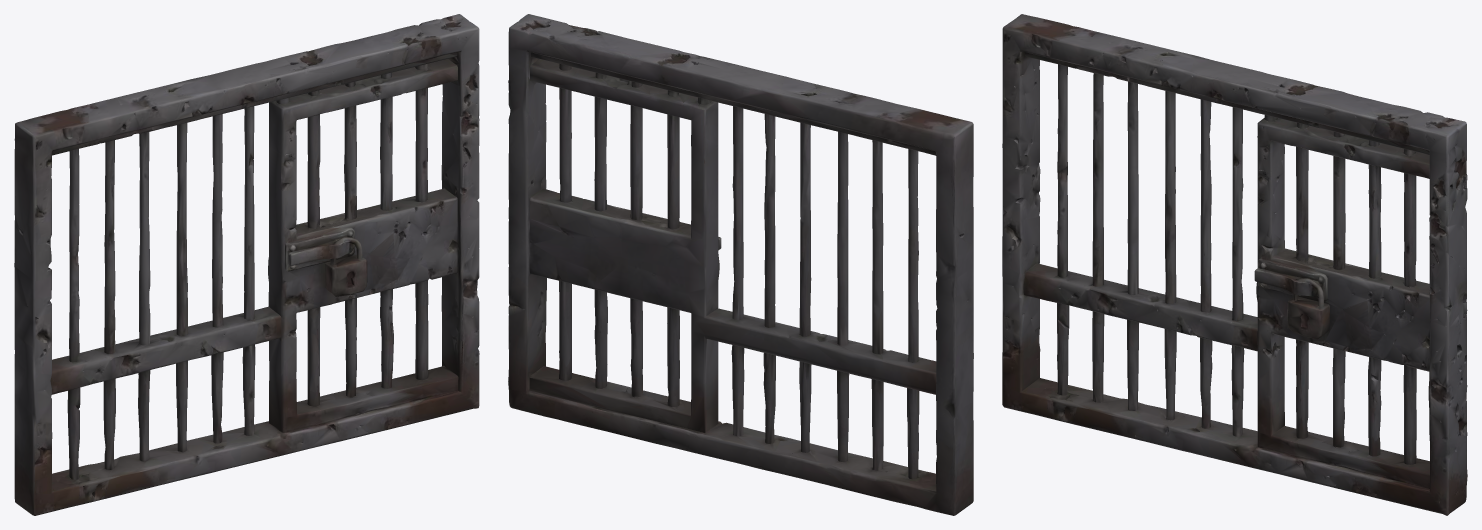
Rendered from prison_cell_bars_idle.glb.
3 views of the same model, side by side, from view 1: azimuth 30°, elevation 25°; view 2: azimuth 150°, elevation 25°; view 3: azimuth 330°, elevation 25° (orthographic).
Parts seen in each view (by area): view 1: tripo_node_9ac749ef-02d3-4582-a9ba-c6e3e2bcc2e5; view 2: tripo_node_9ac749ef-02d3-4582-a9ba-c6e3e2bcc2e5; view 3: tripo_node_9ac749ef-02d3-4582-a9ba-c6e3e2bcc2e5.
Boxes of the visible parts, x1,y1,x2,y2 form: tripo_node_9ac749ef-02d3-4582-a9ba-c6e3e2bcc2e5: [14, 14, 479, 515]; tripo_node_9ac749ef-02d3-4582-a9ba-c6e3e2bcc2e5: [508, 14, 973, 515]; tripo_node_9ac749ef-02d3-4582-a9ba-c6e3e2bcc2e5: [1002, 14, 1467, 515].
Bounding box in the file's own units: 3.07 × 2.5 × 0.3281.
Materials: 1 (1 with a texture image).
